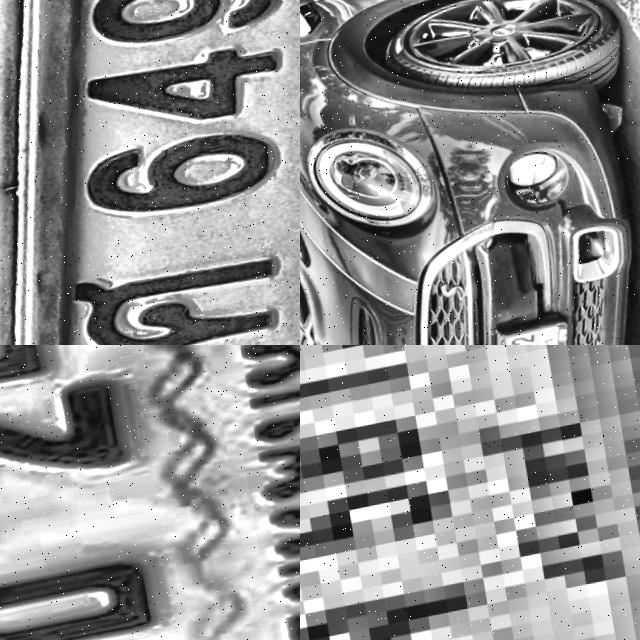license-plate: (0, 0, 300, 345), (300, 345, 640, 640), (0, 345, 300, 640), (469, 322, 579, 345)
